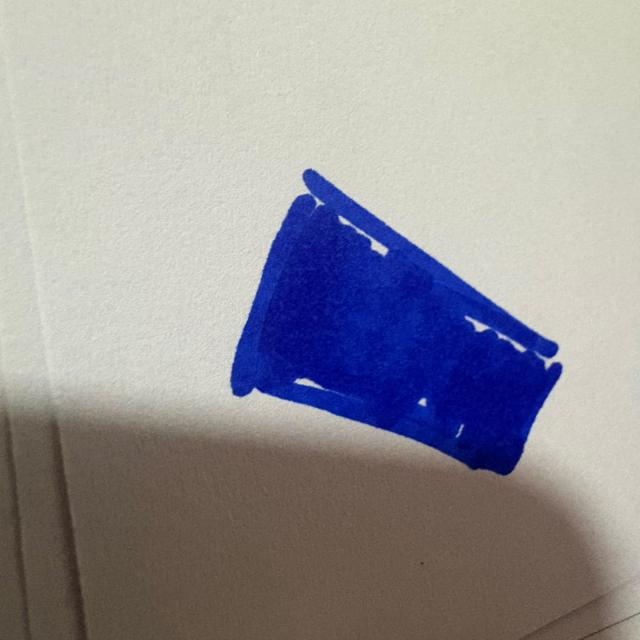Rectangle: (230, 169, 562, 475)
